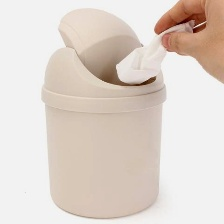plastic_box: (36, 0, 172, 224)
tissue: (110, 14, 202, 88)
